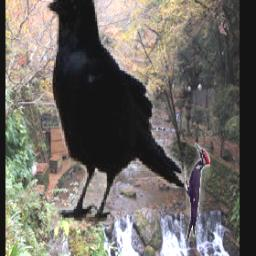Crow: (43, 0, 190, 224)
Woodpecker: (185, 142, 211, 241)
